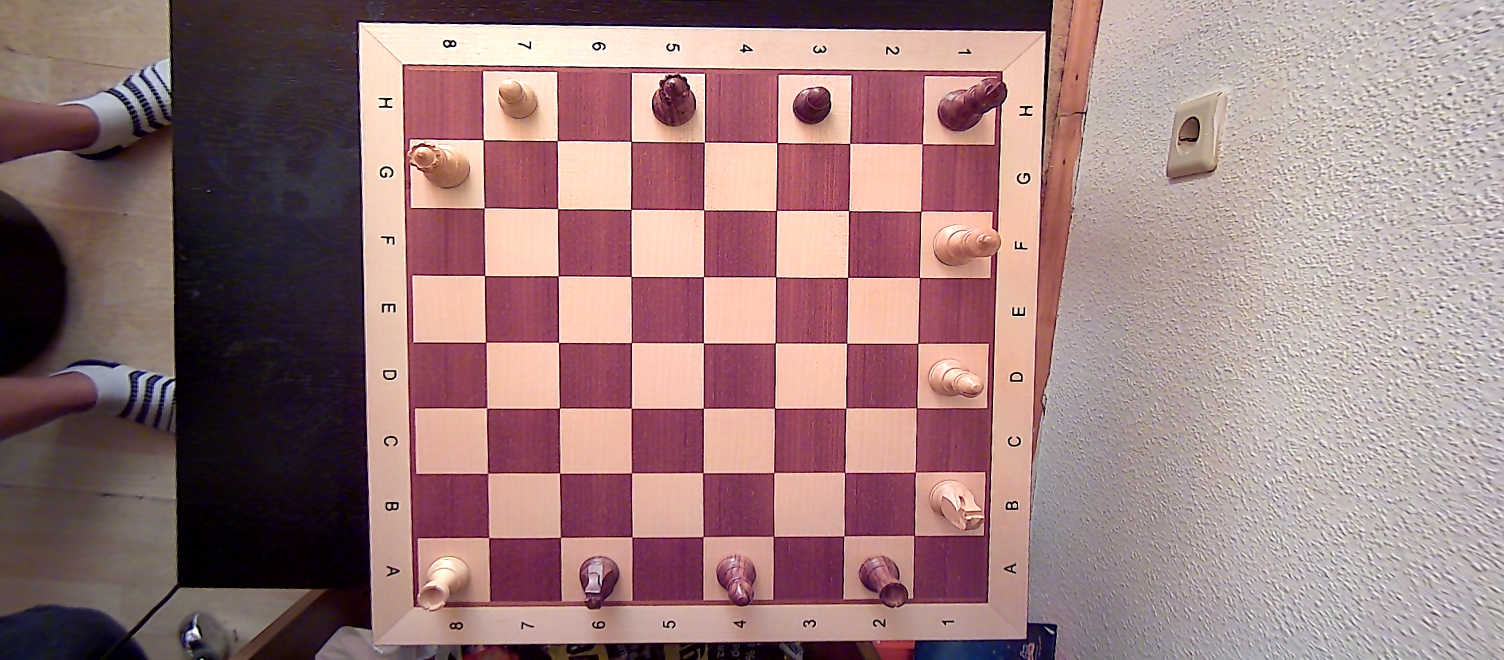black-bishop: (712, 546, 761, 604)
black-king: (934, 74, 1012, 135)
black-knight: (574, 551, 624, 611)
black-pawn: (791, 84, 840, 131)
black-queen: (646, 73, 700, 129)
black-rook: (856, 550, 910, 612)
white-bishop: (925, 350, 985, 408)
white-king: (930, 220, 1003, 273)
white-knight: (926, 474, 987, 536)
white-pawn: (494, 75, 540, 123)
white-queen: (405, 139, 472, 193)
white-rook: (418, 547, 473, 613)
